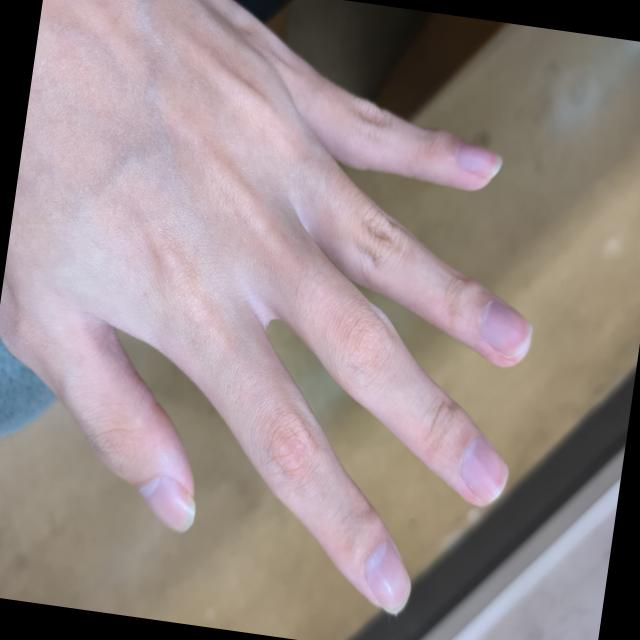Nail: (139, 474, 194, 533), (365, 543, 409, 612), (460, 437, 506, 502), (480, 300, 531, 357), (456, 142, 500, 178)
